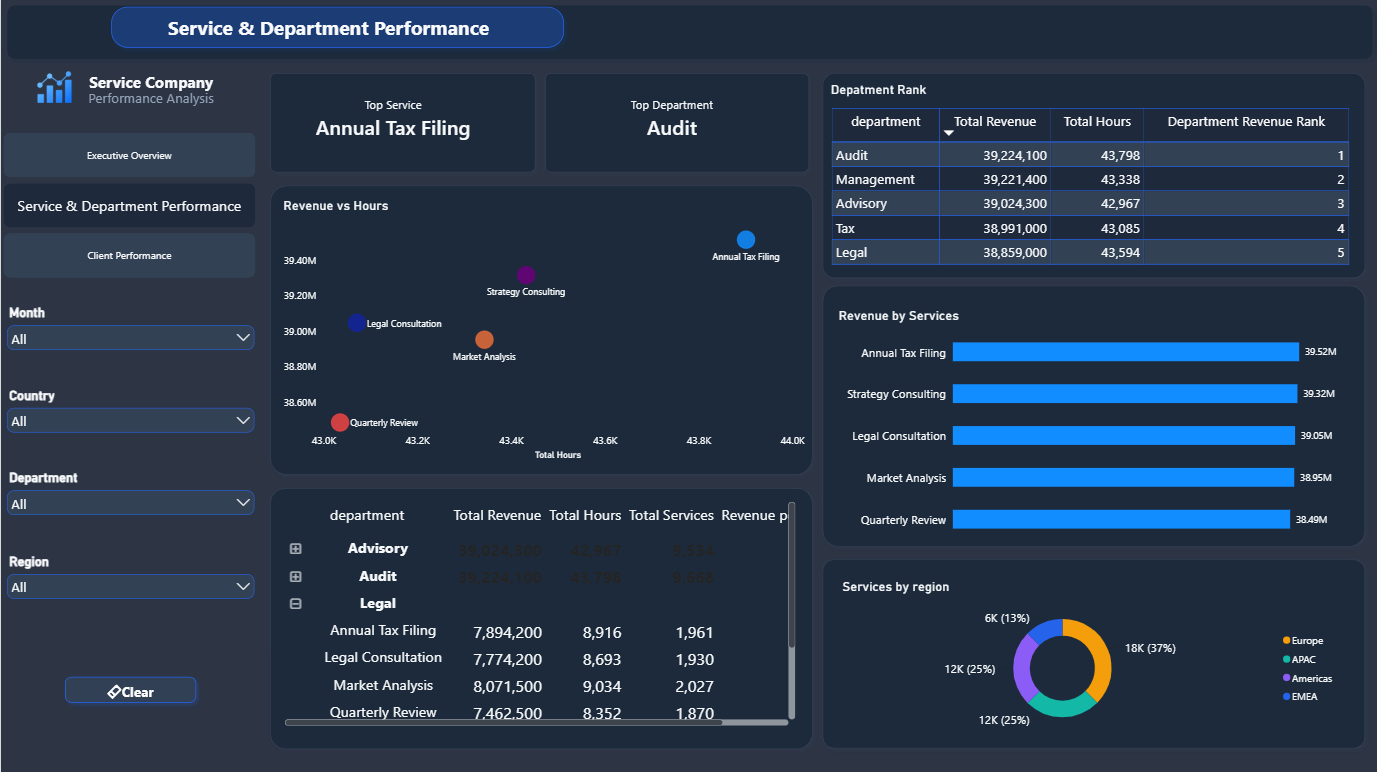

The page's visual inventory and layout, read from the dashboard file:
{"tool":"powerbi","page":{"name":"Service & Department Performance","canvas":[1920,1080],"ordinal":1},"visuals":[{"type":"shape","box":[0,0,1920.1,92.3],"z":0},{"type":"shape","box":[365.2,93.4,388.2,156.5],"z":1000},{"type":"shape","box":[748.3,93.4,386.1,156.5],"z":2000},{"type":"shape","box":[144,2.1,649,75.1],"z":3000},{"type":"actionButton","title":"Executive Overview","box":[144,2.1,624,75.1],"z":4000},{"type":"cardVisual","fields":{"Data":["_Measure.Top Service"]},"box":[404.9,91.8,285.9,150.2],"z":5000},{"type":"cardVisual","fields":{"Data":["_Measure.Top Department"]},"box":[793,91.8,285.9,150.2],"z":6000},{"type":"shape","title":"Revenue Trend","box":[365.2,250.4,774.3,421.6],"z":7000},{"type":"scatterChart","title":"Revenue vs Hours","fields":{"Series":["V_Service_Company_Analysis.service_description"],"X":["_Measure.Total Hours"],"Y":["_Measure.Total Revenue"]},"box":[394.4,277.6,726.3,365.2],"z":8000},{"type":"shape","title":"Revenue Trend","box":[1135,93.4,774.5,304],"z":9000},{"type":"shape","title":"Revenue Trend","box":[1135,390.3,774.3,381.9],"z":10000},{"type":"barChart","title":"Revenue by Services","fields":{"Category":["V_Service_Company_Analysis.service_description"],"Y":["_Measure.Total Revenue"]},"box":[1150.9,416.2,725.7,340.2],"z":11000},{"type":"shape","title":"Revenue Trend","box":[365.2,672,774.3,381.9],"z":12000},{"type":"pivotTable","title":"Revenue by region","fields":{"Rows":["V_Service_Company_Analysis.department","V_Service_Company_Analysis.service_description"],"Values":["_Measure.Total Revenue","_Measure.Total Hours","_Measure.Total Services","_Measure.Revenue per Hour"]},"box":[379.8,686.6,743,342.3],"z":13000},{"type":"slicer","title":"Month","fields":{"Values":["Calender.MonthName"]},"box":[3.6,427.1,354.7,79.6],"z":14000},{"type":"slicer","title":"Month","fields":{"Values":["V_Service_Company_Analysis.country"]},"box":[3.6,542.3,354.7,79.6],"z":15000},{"type":"slicer","title":"Month","fields":{"Values":["V_Service_Company_Analysis.department"]},"box":[3.6,657.5,354.7,79.6],"z":16000},{"type":"slicer","title":"Month","fields":{"Values":["V_Service_Company_Analysis.region"]},"box":[3.6,772.7,354.7,79.6],"z":17000},{"type":"actionButton","box":[79.6,935.6,200.9,54.3],"z":18000},{"type":"pageNavigator","box":[3.6,186.4,351.1,204.5],"z":19000},{"type":"actionButton","box":[61.5,92.3,296.8,47.1],"z":20000},{"type":"actionButton","box":[61.5,112.2,296.8,54.3],"z":21000},{"type":"image","box":[45.2,97.7,57.9,50.7],"z":22000},{"type":"tableEx","title":"Depatment Rank","fields":{"Values":["V_Service_Company_Analysis.department","_Measure.Total Revenue","_Measure.Total Hours","_Measure.Department Revenue Rank"]},"box":[1156.2,114.8,724.2,267.1],"z":23000},{"type":"shape","title":"Revenue Trend","box":[1135,772.2,774.3,281.7],"z":24000},{"type":"donutChart","title":"Services by region","fields":{"Category":["V_Service_Company_Analysis.region"],"Y":["_Measure.Total Services"]},"box":[1156.4,794.4,723.9,240.7],"z":25000}]}

Visuals, with their boxes in screenshot pixels (x1, y1, x2, y2), scaled from the page's 1920x1080 canvas onto the 1377x772 screenshot:
shape: bbox=[0, 0, 1376, 66]
shape: bbox=[262, 67, 540, 179]
shape: bbox=[537, 67, 814, 179]
shape: bbox=[103, 2, 569, 55]
"Executive Overview" actionButton: bbox=[103, 2, 551, 55]
cardVisual - _Measure.Top Service: bbox=[290, 66, 495, 173]
cardVisual - _Measure.Top Department: bbox=[569, 66, 774, 173]
"Revenue Trend" shape: bbox=[262, 179, 817, 480]
"Revenue vs Hours" scatterChart: bbox=[283, 198, 804, 459]
"Revenue Trend" shape: bbox=[814, 67, 1369, 284]
"Revenue Trend" shape: bbox=[814, 279, 1369, 552]
"Revenue by Services" barChart: bbox=[825, 298, 1346, 541]
"Revenue Trend" shape: bbox=[262, 480, 817, 753]
"Revenue by region" pivotTable: bbox=[272, 491, 805, 735]
"Month" slicer: bbox=[3, 305, 257, 362]
"Month" slicer: bbox=[3, 388, 257, 445]
"Month" slicer: bbox=[3, 470, 257, 527]
"Month" slicer: bbox=[3, 552, 257, 609]
actionButton: bbox=[57, 669, 201, 708]
pageNavigator: bbox=[3, 133, 254, 279]
actionButton: bbox=[44, 66, 257, 100]
actionButton: bbox=[44, 80, 257, 119]
image: bbox=[32, 70, 74, 106]
"Depatment Rank" tableEx: bbox=[829, 82, 1349, 273]
"Revenue Trend" shape: bbox=[814, 552, 1369, 753]
"Services by region" donutChart: bbox=[829, 568, 1349, 740]
